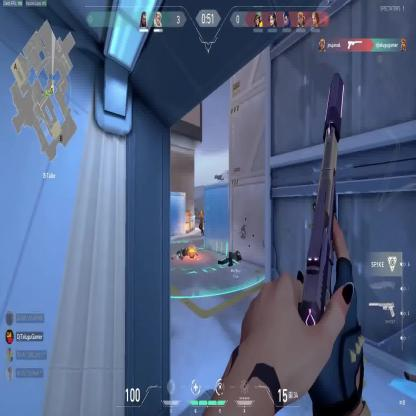enemy: (199, 210, 204, 236)
enemy_head: (200, 210, 203, 216)
